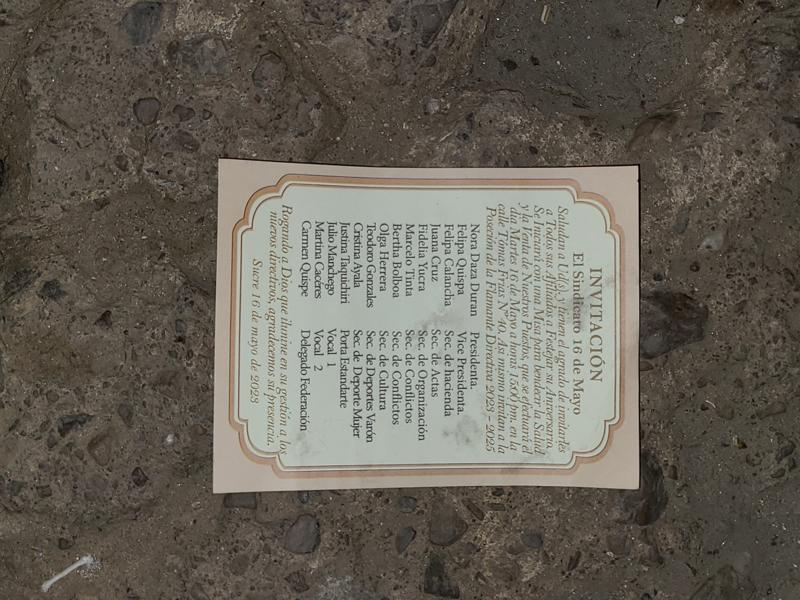papel: (211, 165, 641, 495)
